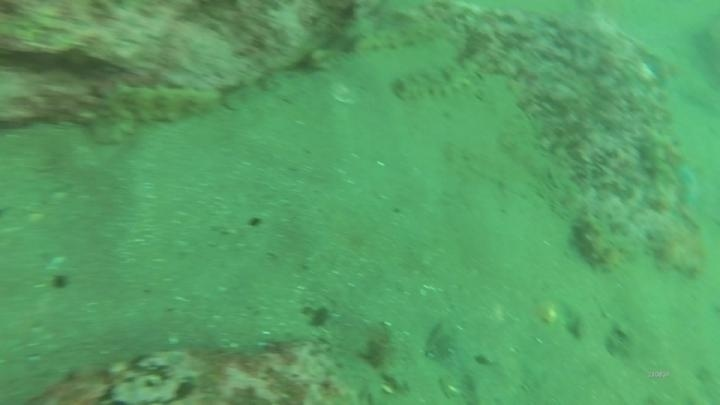holothurian: (85, 79, 226, 144), (390, 48, 502, 105), (568, 196, 627, 274), (639, 122, 683, 219), (348, 17, 447, 57)
